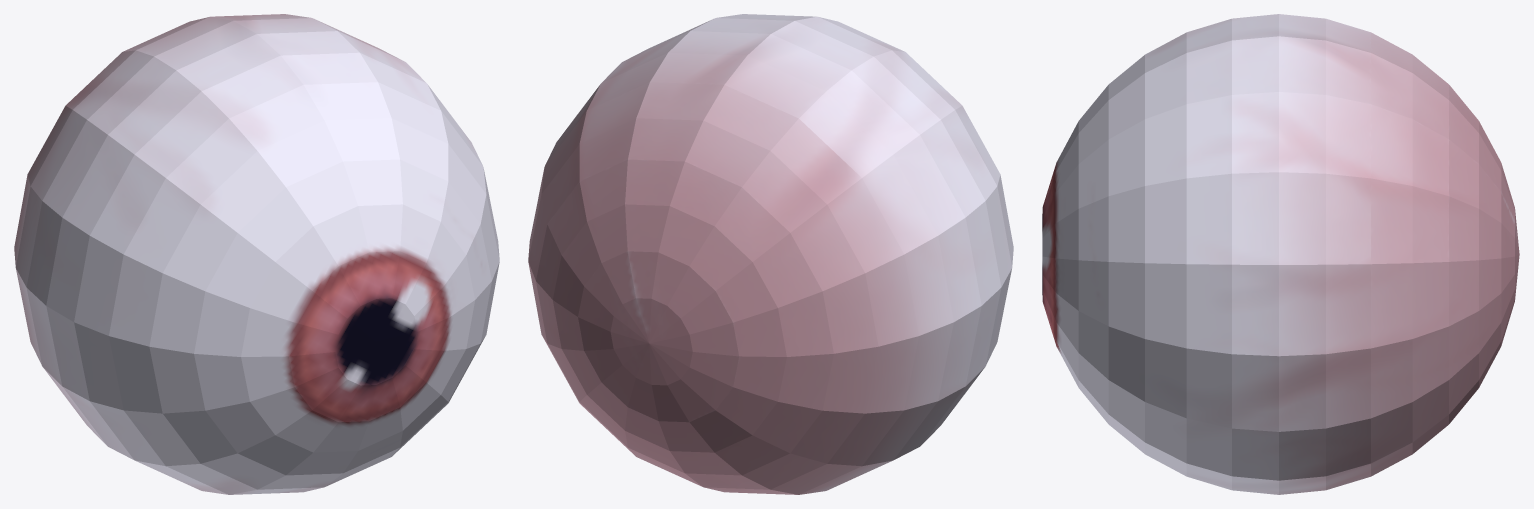
Rendered from ING_eyeball_v02.fbx.
The picture shows the model from 3 angles, left to right: view 1: azimuth 30°, elevation 25°; view 2: azimuth 150°, elevation 25°; view 3: azimuth 270°, elevation 25°; orthographic projection.
Parts seen in each view (by area): view 1: eyeball; view 2: eyeball; view 3: eyeball.
Part boxes in pixels (x1,y1,x2,y2): eyeball: [14, 14, 499, 494]; eyeball: [528, 14, 1013, 494]; eyeball: [1042, 14, 1519, 494].
Bounding box in the file's own units: 12.46 × 12.46 × 12.35.
